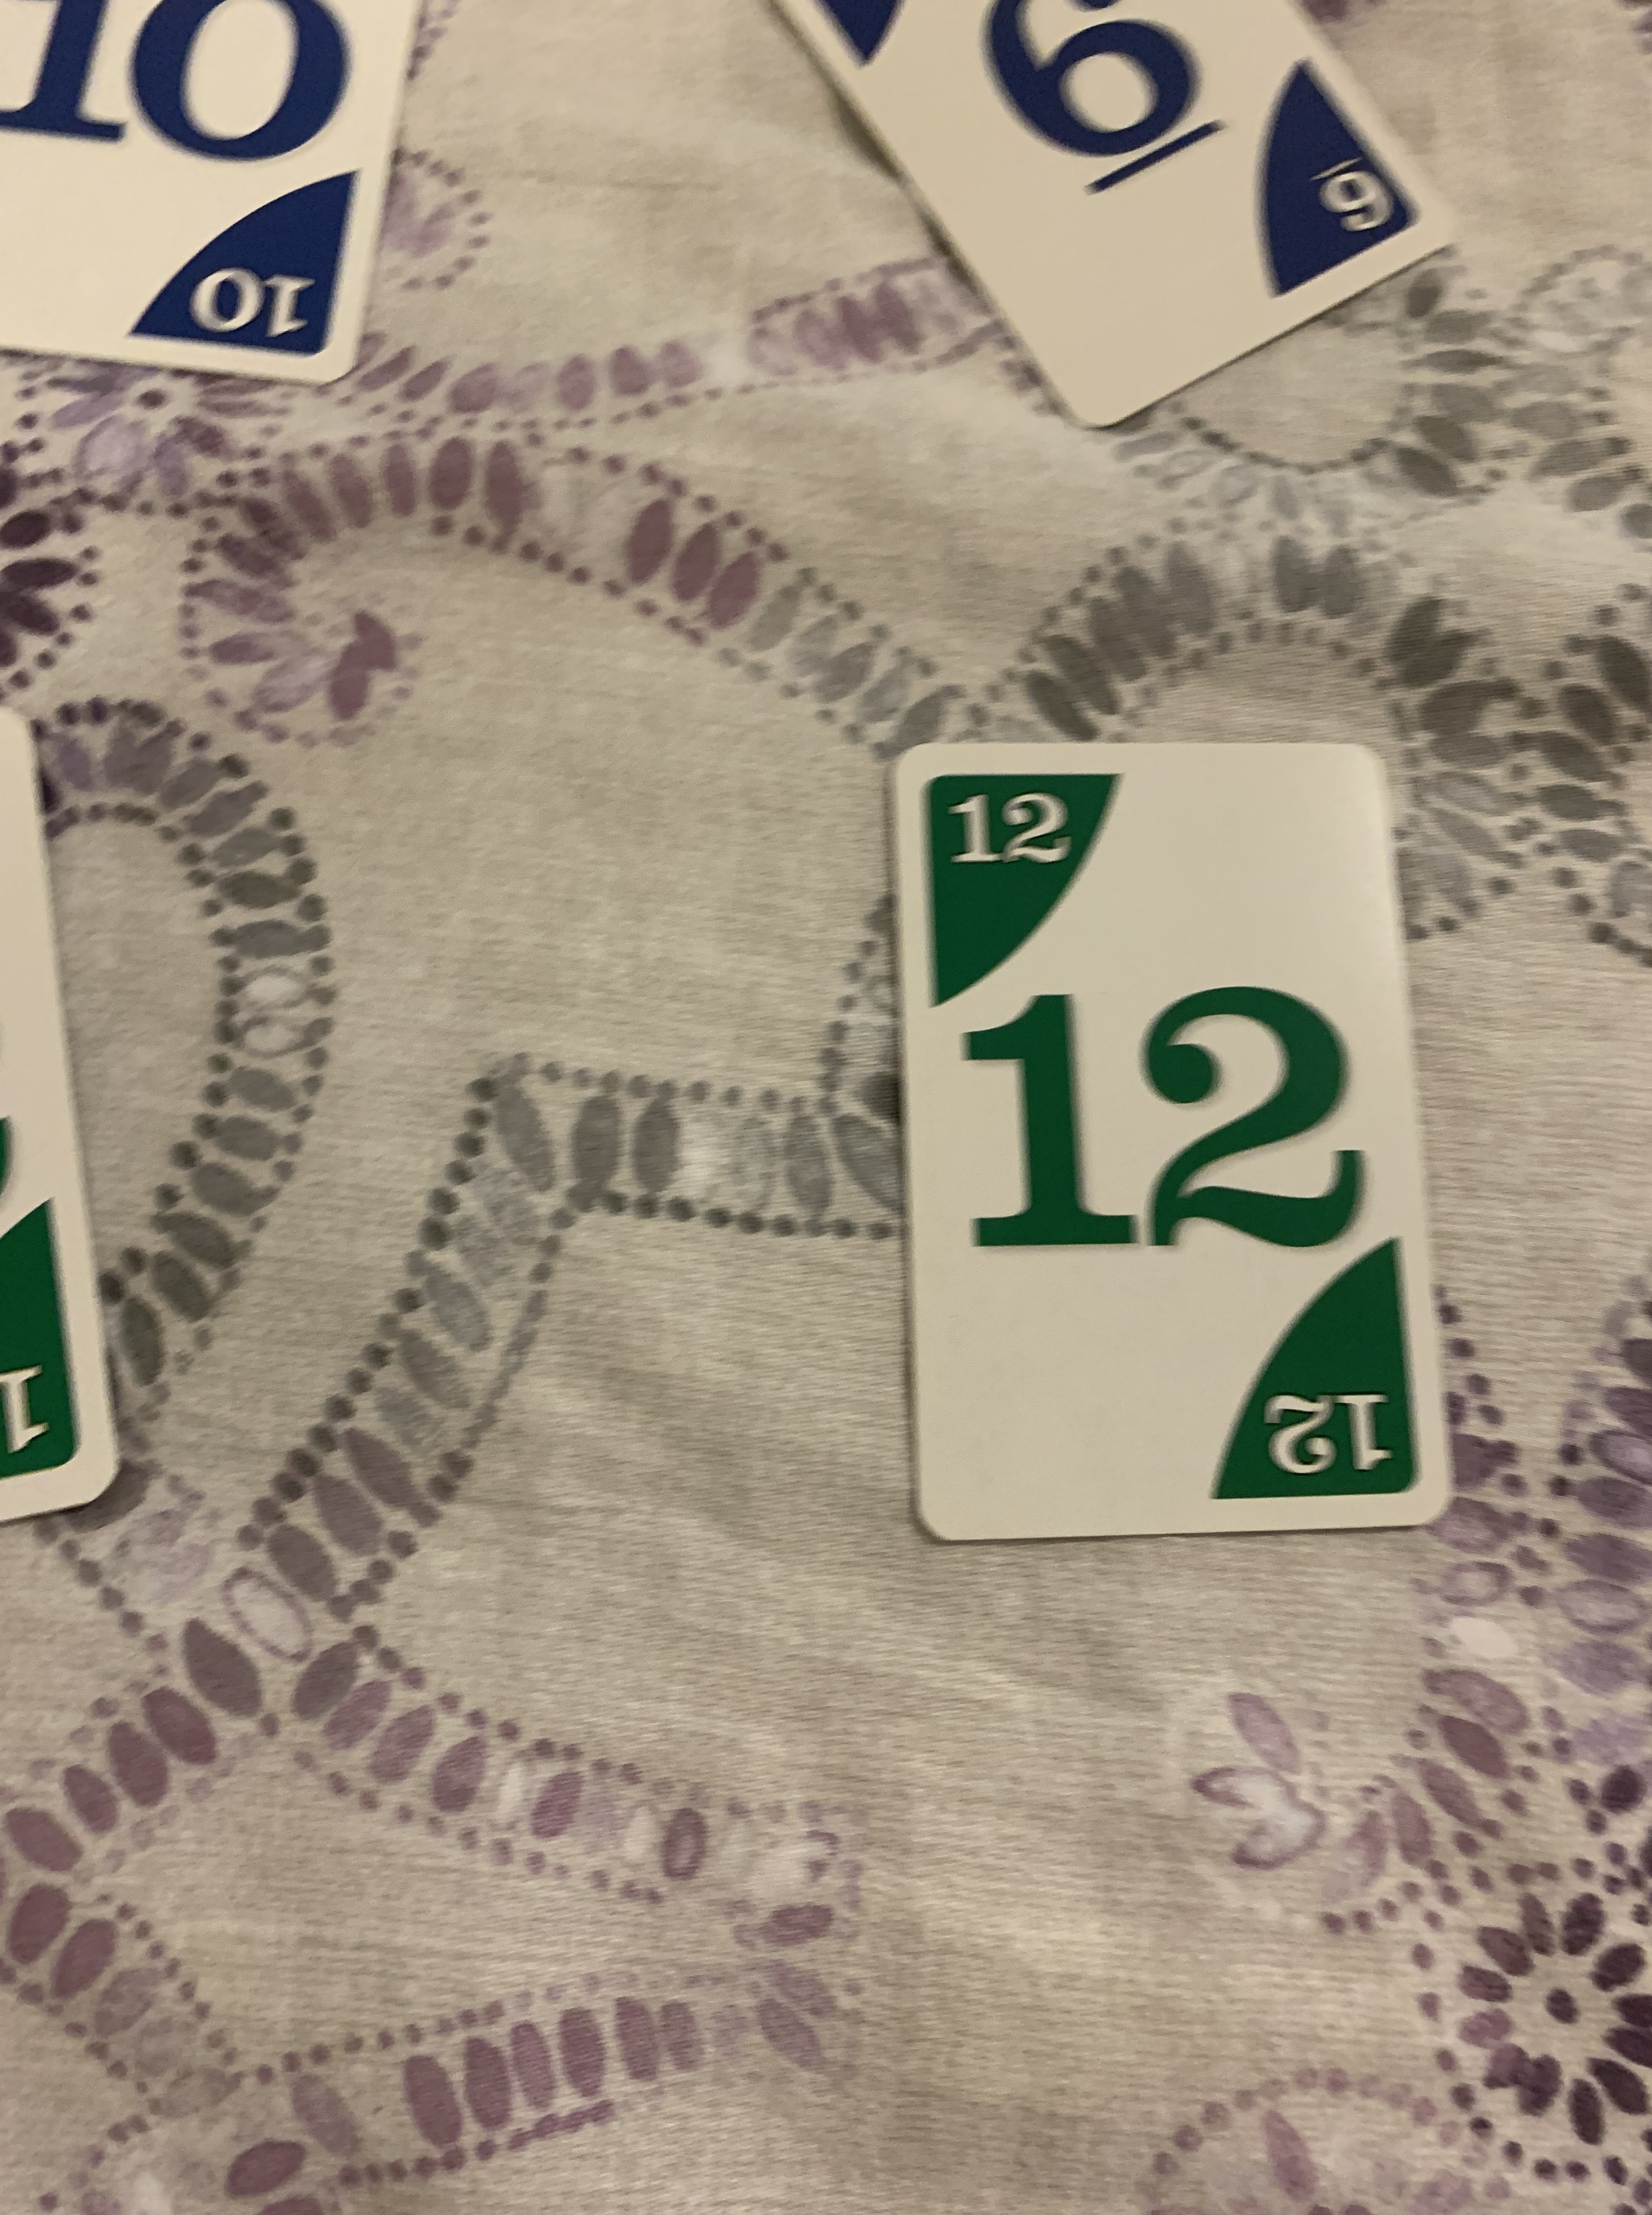twelve: (882, 734, 1459, 1559)
